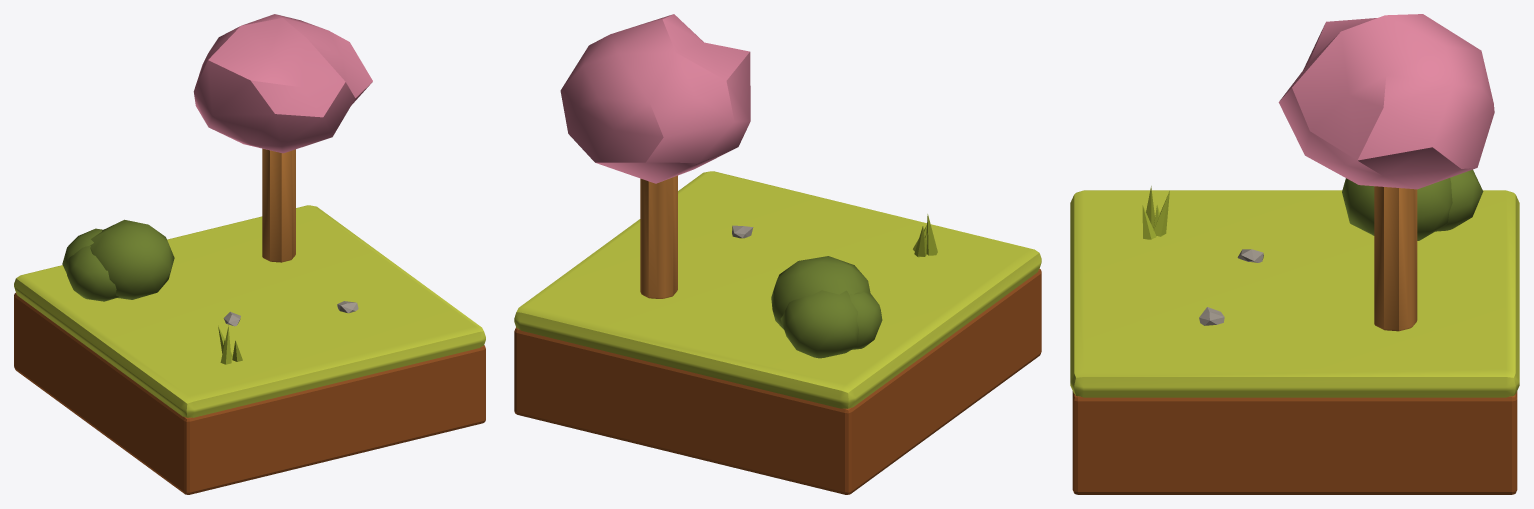
Rendered from tile_grove_flowering.glb.
The picture shows the model from 3 angles, left to right: view 1: azimuth 30°, elevation 25°; view 2: azimuth 150°, elevation 25°; view 3: azimuth 270°, elevation 25°; orthographic projection. The views are drawn at different scales.
Parts seen in each view (by area): view 1: tile_grove_flowering_cap, tile_grove_flowering_body, gfl_leaf, tile_grove_flowering_b_lobe2, gfl_trunk, tile_grove_flowering_b_lobe1, tile_grove_flowering_b_lobe0; view 2: tile_grove_flowering_cap, tile_grove_flowering_body, gfl_leaf, gfl_trunk, tile_grove_flowering_b_lobe0, tile_grove_flowering_b_lobe2, tile_grove_flowering_b_lobe1; view 3: tile_grove_flowering_cap, tile_grove_flowering_body, gfl_leaf, gfl_trunk, tile_grove_flowering_b_lobe2, tile_grove_flowering_b_lobe0.
Boxes of the visible parts, <box> form: tile_grove_flowering_cap: <box>14,205,485,417</box>; tile_grove_flowering_body: <box>14,292,485,494</box>; gfl_leaf: <box>193,14,372,153</box>; tile_grove_flowering_b_lobe2: <box>90,219,174,299</box>; gfl_trunk: <box>262,148,295,262</box>; tile_grove_flowering_b_lobe1: <box>67,245,118,301</box>; tile_grove_flowering_b_lobe0: <box>62,228,102,273</box>; tile_grove_flowering_cap: <box>514,171,1041,408</box>; tile_grove_flowering_body: <box>514,268,1041,494</box>; gfl_leaf: <box>560,14,750,183</box>; gfl_trunk: <box>640,175,677,298</box>; tile_grove_flowering_b_lobe0: <box>780,290,858,358</box>; tile_grove_flowering_b_lobe2: <box>771,256,870,329</box>; tile_grove_flowering_b_lobe1: <box>849,292,882,349</box>; tile_grove_flowering_cap: <box>1070,190,1519,397</box>; tile_grove_flowering_body: <box>1072,391,1517,494</box>; gfl_leaf: <box>1278,14,1494,189</box>; gfl_trunk: <box>1374,186,1417,331</box>; tile_grove_flowering_b_lobe2: <box>1342,178,1452,240</box>; tile_grove_flowering_b_lobe0: <box>1435,169,1483,231</box>.
Bounding box in the file's own units: 2.02 × 2.14 × 2.02.
